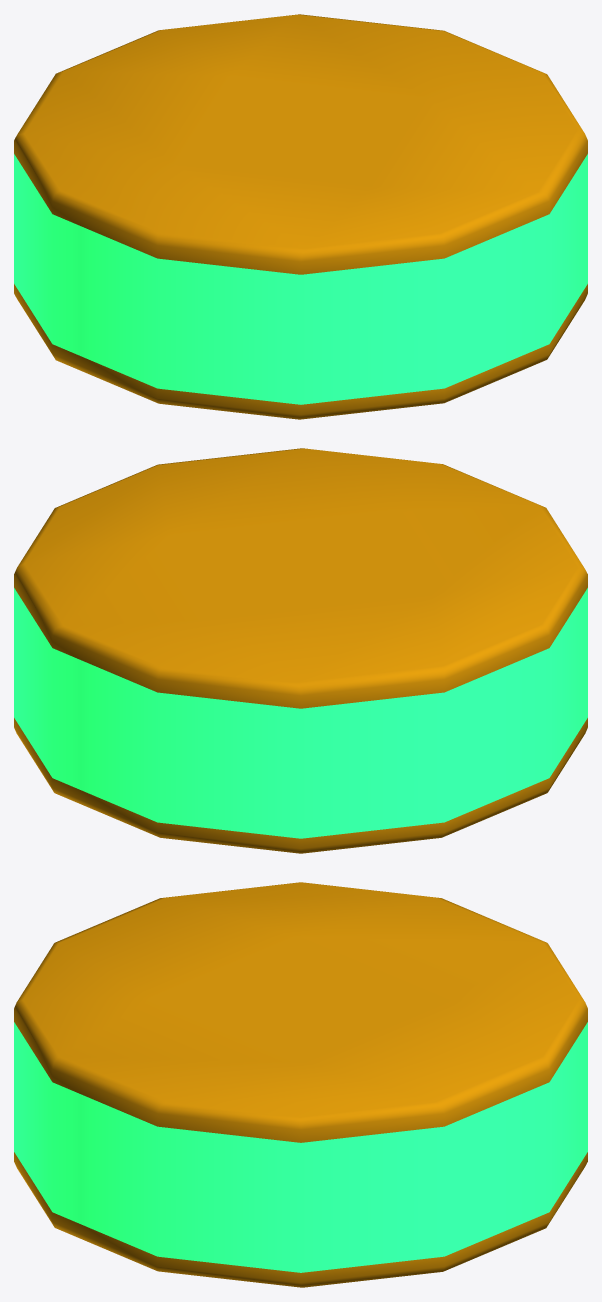
Rendered from battery.fbx.
3 renders of one model, top to bottom at view 1: azimuth 30°, elevation 25°; view 2: azimuth 150°, elevation 25°; view 3: azimuth 270°, elevation 25°, orthographic.
Parts seen in each view (by area): view 1: Battery; view 2: Battery; view 3: Battery.
Boxes of the visible parts, x1,y1,x2,y2 form: Battery: [14, 14, 587, 419]; Battery: [14, 448, 587, 853]; Battery: [14, 882, 587, 1287].
Bounding box in the file's own units: 216 × 70.96 × 216.
